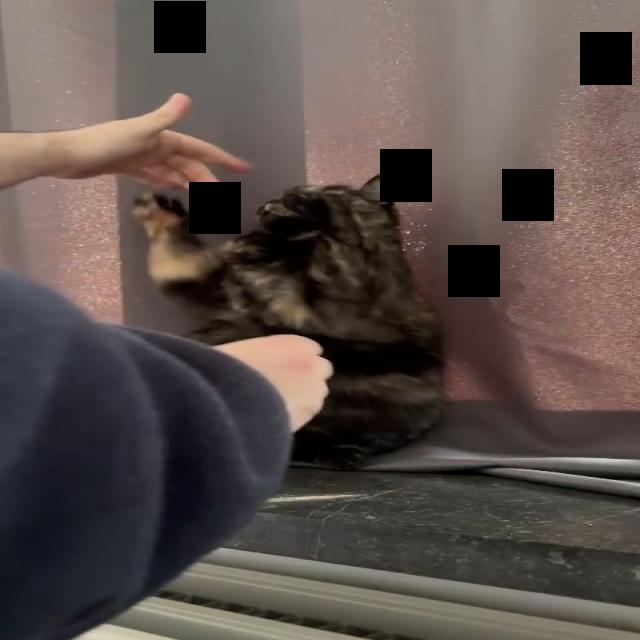authorized: (128, 172, 448, 470)
